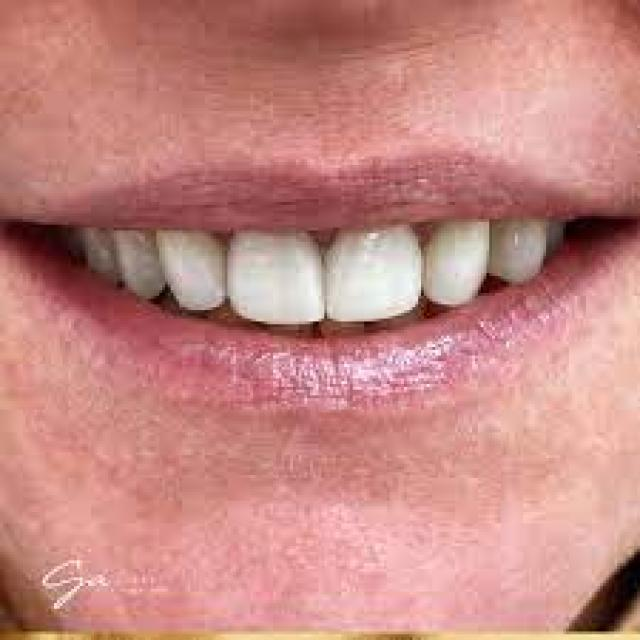tooth: (324, 225, 432, 313), (162, 230, 219, 313), (242, 247, 310, 316), (495, 202, 540, 284), (444, 228, 481, 307), (125, 236, 154, 287), (83, 225, 108, 270)
